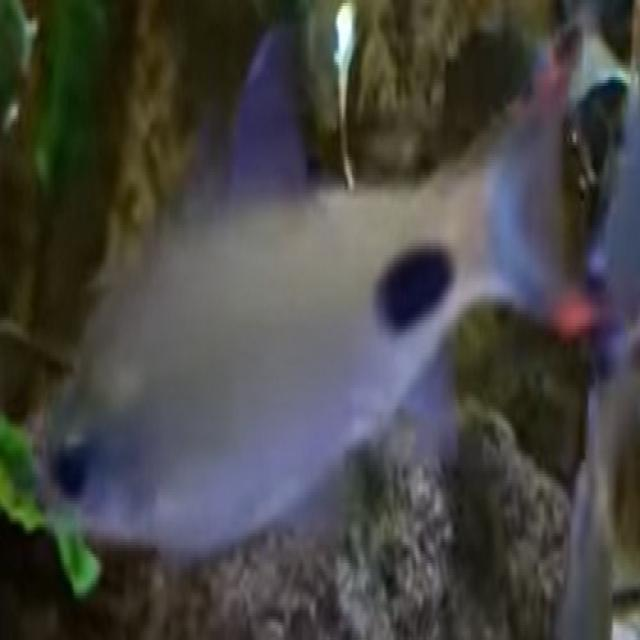Black-Spotted-Barb: (11, 5, 614, 565)
